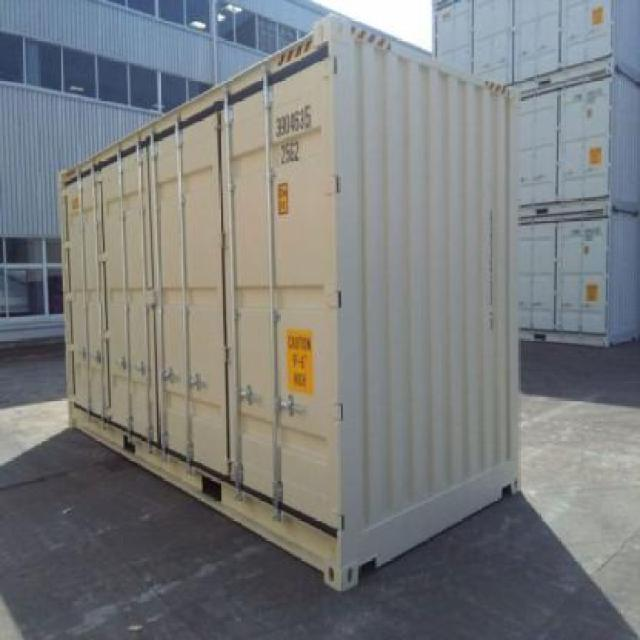ISO: (277, 140, 308, 162)
container_number: (275, 105, 319, 140)
